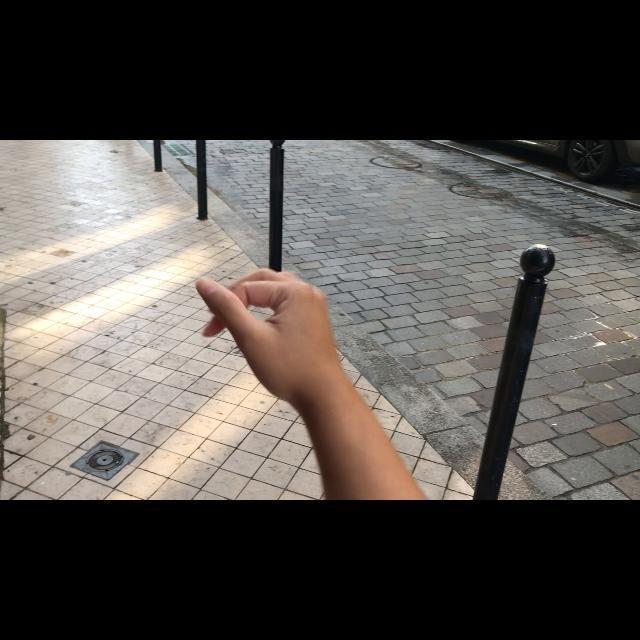bare_hand: (192, 266, 339, 398)
